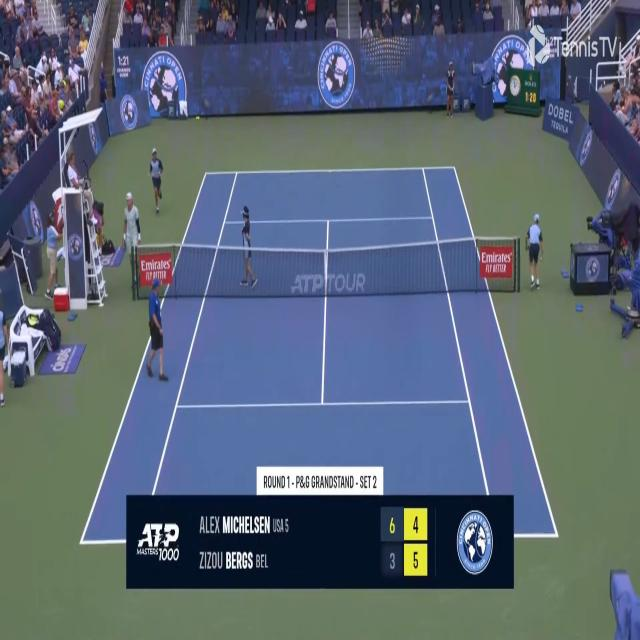tennis-player: (121, 188, 144, 283)
